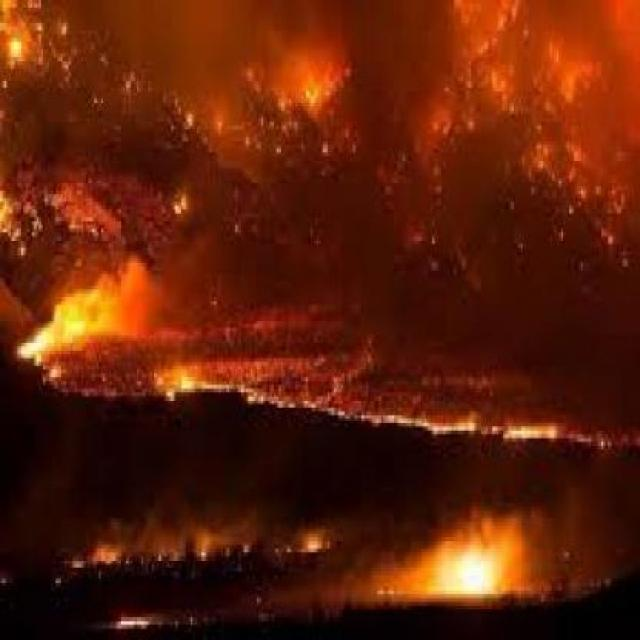Fire: (206, 354, 640, 476), (8, 284, 144, 392)
